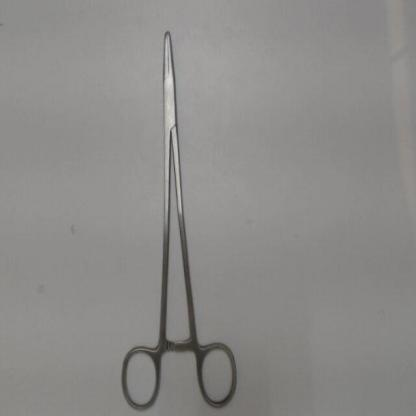8 Mayo Needle Holder: (115, 19, 244, 413)
